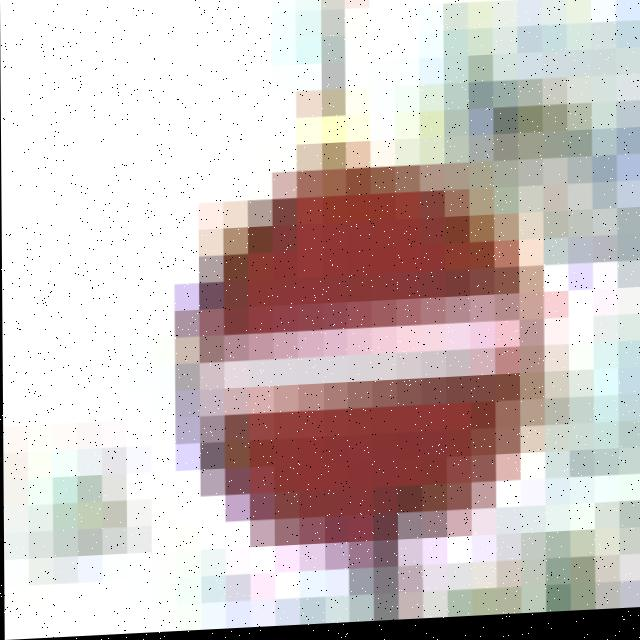road_rough: (171, 135, 560, 573)
